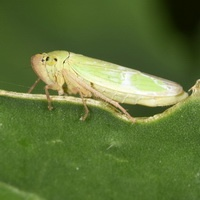insect: (31, 50, 187, 122), (121, 103, 172, 117)
